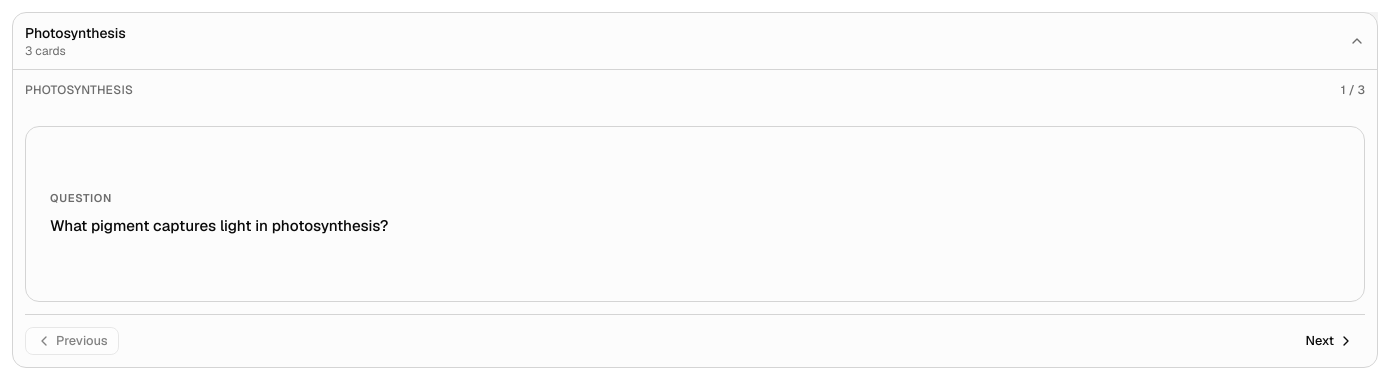
Test: FlashcardsPanel single set › Previous is disabled on the first card, Next disabled on the last
expect the button with aria-label "Previous card" is disabled: met, box [25,327,119,355]
Step 1. Click the button with aria-label "Next card" → {"x": 1330, "y": 341}, box [1294,327,1365,355]
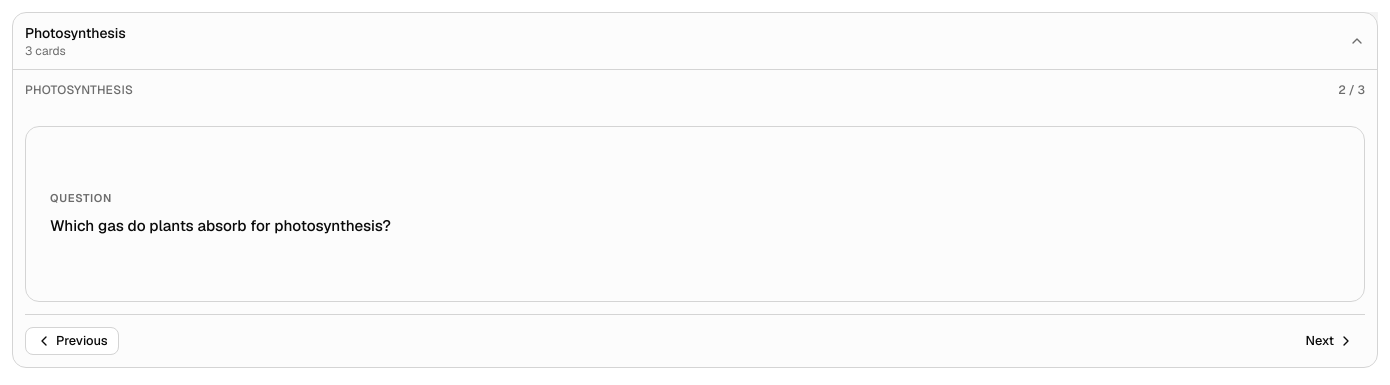
Step 2. Click the button with aria-label "Next card" → {"x": 1330, "y": 341}, box [1294,327,1365,355]
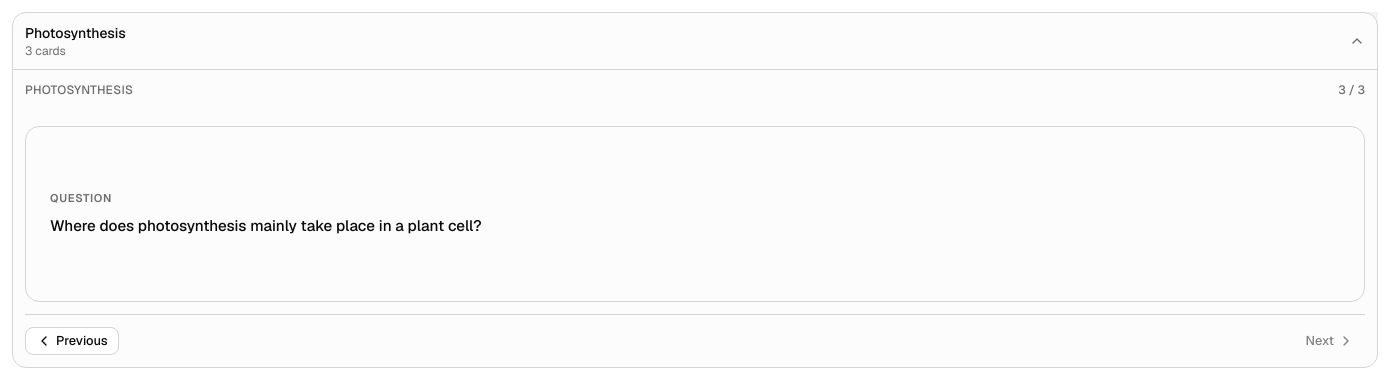
expect the text "3 / 3" is shown: met, box [1338,82,1365,98]
expect the button with aria-label "Next card" is disabled: met, box [1294,327,1365,355]
